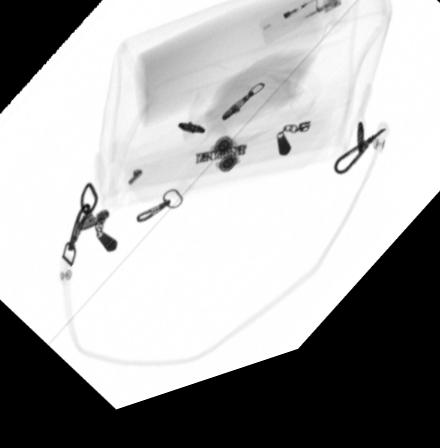Lighter: (257, 1, 342, 62)
